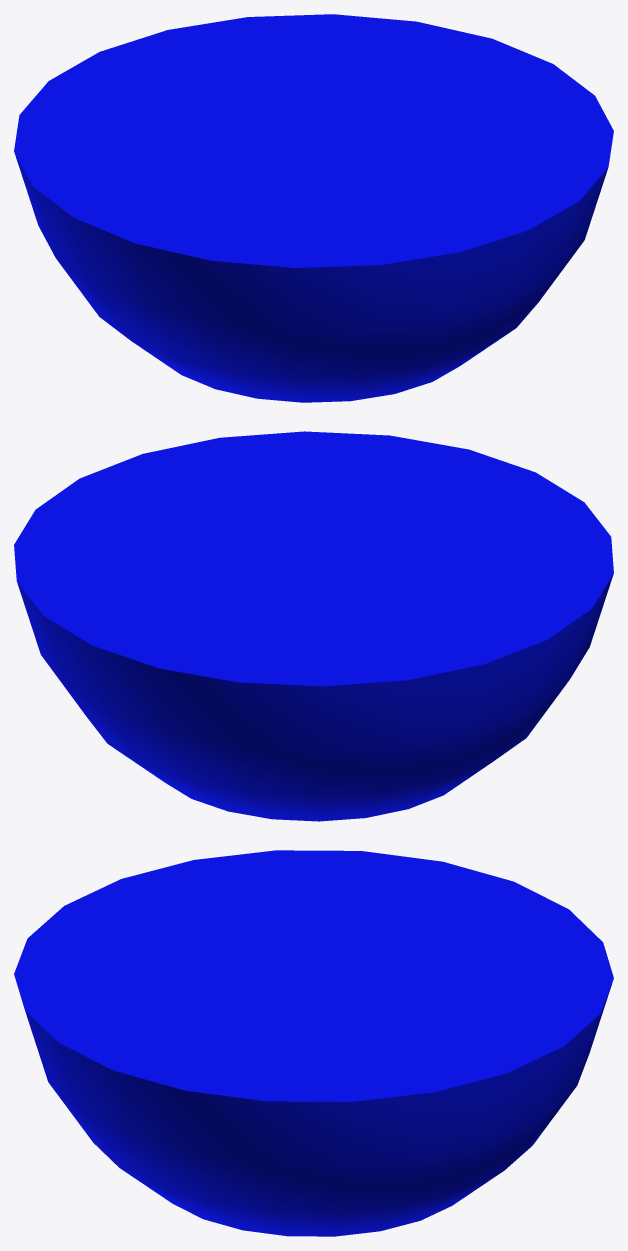
The model's file is liquid.FBX.
The picture shows the model from 3 angles, top to bottom: view 1: azimuth 30°, elevation 25°; view 2: azimuth 150°, elevation 25°; view 3: azimuth 270°, elevation 25°; orthographic projection.
Visible parts, largest first — view 1: ss; view 2: ss; view 3: ss.
Boxes of the visible parts, bbox=[...] form: ss: bbox=[14, 14, 613, 402]; ss: bbox=[14, 431, 613, 821]; ss: bbox=[14, 850, 613, 1236].
Size of the model in its own units: 4.41 by 1.56 by 4.44.
